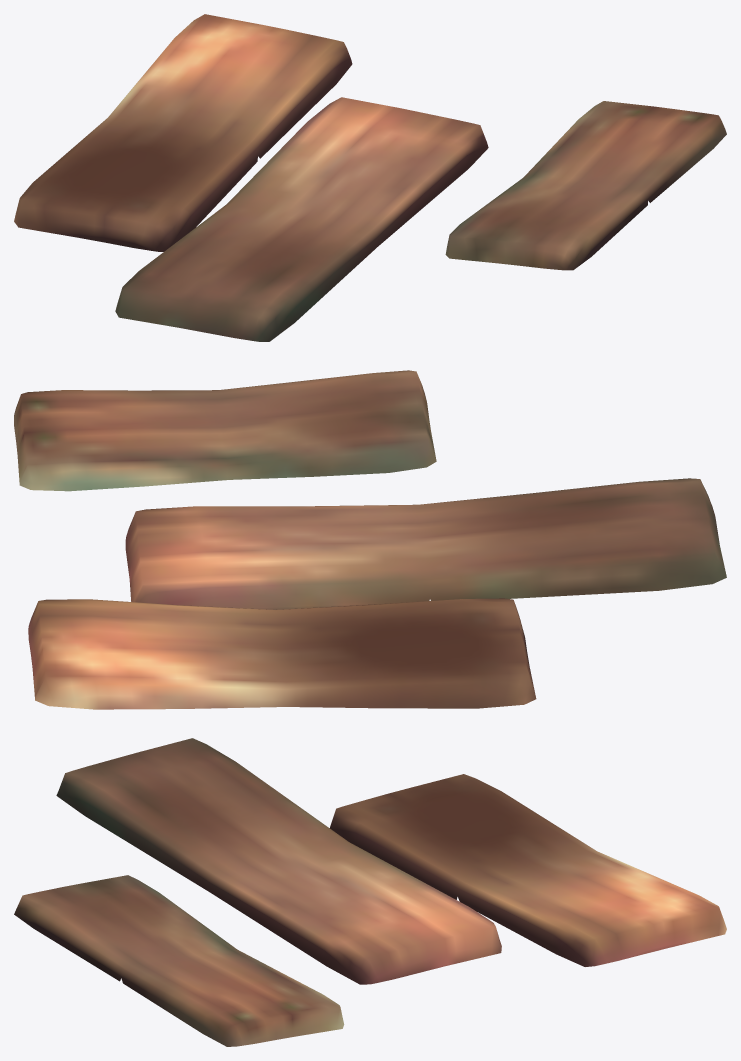
The model's file is Beach_Details_3.glb.
The picture shows the model from 3 angles, top to bottom: view 1: azimuth 30°, elevation 25°; view 2: azimuth 150°, elevation 25°; view 3: azimuth 270°, elevation 25°; orthographic projection. The views are drawn at different scales.
Visible parts, largest first — view 1: Object_2.024; view 2: Object_2.024; view 3: Object_2.024.
Boxes of the visible parts, bbox=[...] form: Object_2.024: bbox=[14, 14, 726, 341]; Object_2.024: bbox=[14, 370, 726, 709]; Object_2.024: bbox=[14, 738, 726, 1046].
Bounding box in the file's own units: 13.8 × 1.24 × 13.65.
1 material, 1 textured.
